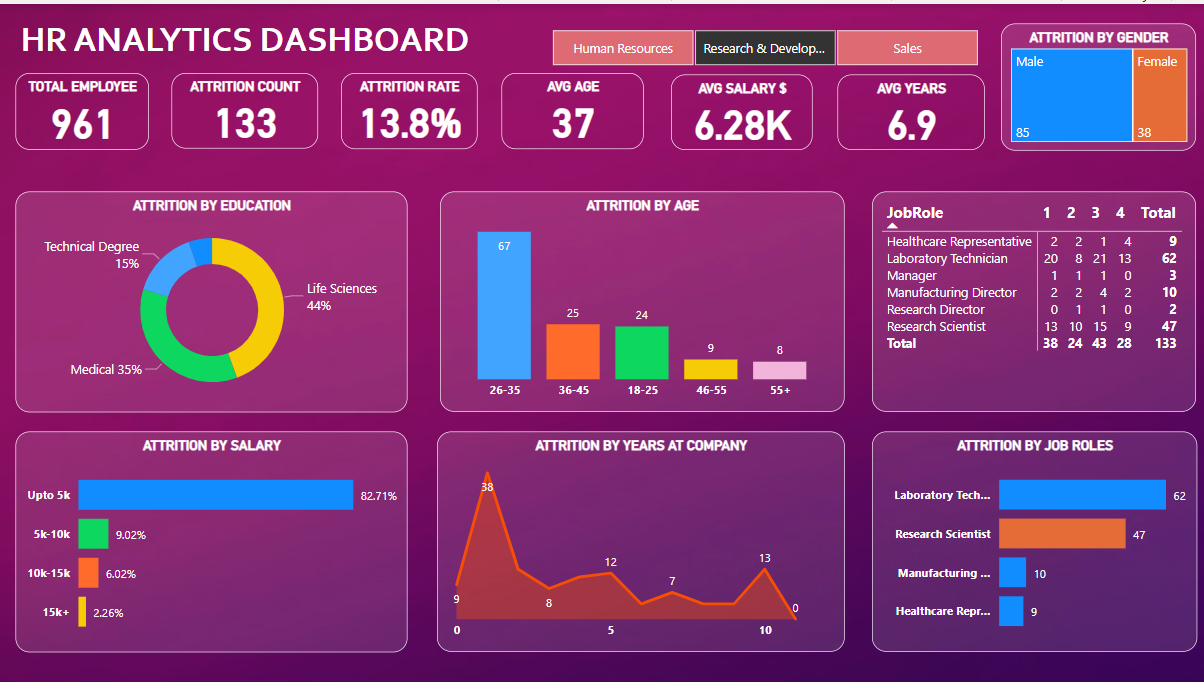

What the dashboard file says about the page in this screenshot:
{"tool":"powerbi","page":{"name":"Page 1","canvas":[1280,720],"ordinal":0},"visuals":[{"type":"card","title":"TOTAL EMPLOYEE","fields":{"Values":["CountNonNull(HR_Analytics.EmpID)"]},"box":[17.5,72.5,141.2,81.2],"z":0},{"type":"card","title":"ATTRITION COUNT","fields":{"Values":["Sum(HR_Analytics.AttritionCount)"]},"box":[182.5,73.8,155,80],"z":1000},{"type":"card","title":"ATTRITION RATE","fields":{"Values":["HR_Analytics.Measure"]},"box":[361.9,73,144.4,81],"z":2000},{"type":"card","title":"AVG AGE","fields":{"Values":["Avg(HR_Analytics.Age)"]},"box":[531.7,73,150.8,81],"z":3000},{"type":"card","title":"AVG SALARY $","fields":{"Values":["Avg(HR_Analytics.MonthlyIncome)"]},"box":[712.8,74.4,150.3,80.2],"z":4000},{"type":"card","title":"AVG YEARS ","fields":{"Values":["Avg(HR_Analytics.YearsAtCompany)"]},"box":[888.9,74.4,156,80.2],"z":5000},{"type":"donutChart","title":"ATTRITION BY EDUCATION","fields":{"Category":["HR_Analytics.EducationField"],"Y":["Sum(HR_Analytics.AttritionCount)"]},"box":[17.5,198.8,415,233.8],"z":6000},{"type":"columnChart","title":"ATTRITION BY AGE","fields":{"Category":["HR_Analytics.AgeGroup"],"Y":["Sum(HR_Analytics.AttritionCount)"]},"box":[466.7,198.4,428.6,233.3],"z":7000},{"type":"pivotTable","fields":{"Rows":["HR_Analytics.JobRole"],"Columns":["HR_Analytics.JobSatisfaction"],"Values":["Sum(HR_Analytics.AttritionCount)"]},"box":[924.7,199,343.5,233.3],"z":8000},{"type":"clusteredBarChart","title":"ATTRITION BY SALARY","fields":{"Category":["HR_Analytics.SalarySlab"],"Y":["Sum(HR_Analytics.AttritionCount)"]},"box":[17.5,452.5,415,233.8],"z":9000},{"type":"clusteredBarChart","title":"ATTRITION BY JOB ROLES","fields":{"Category":["HR_Analytics.JobRole"],"Y":["Sum(HR_Analytics.AttritionCount)"]},"box":[925.4,452.4,344.4,233.3],"z":10000},{"type":"areaChart","title":"ATTRITION BY YEARS AT COMPANY","fields":{"Category":["HR_Analytics.YearsAtCompany"],"Y":["Sum(HR_Analytics.AttritionCount)"]},"box":[463.5,452.4,431.7,233.3],"z":11000},{"type":"treemap","title":"ATTRITION BY GENDER","fields":{"Group":["HR_Analytics.Gender"],"Values":["Sum(HR_Analytics.AttritionCount)"]},"box":[1061.9,20.6,206.3,134.9],"z":12000},{"type":"slicer","title":"DEPARTMENTS","fields":{"Values":["HR_Analytics.Department"]},"box":[561.2,21.2,500,51.2],"z":13000},{"type":"textbox","box":[0,10,521.2,57.5],"z":14000}]}

Visuals, with their boxes in screenshot pixels (x1, y1, x2, y2), scaled from the page's 1280x720 canvas onto the 1204x682 screenshot:
"TOTAL EMPLOYEE" card: (16, 69, 149, 146)
"ATTRITION COUNT" card: (172, 70, 317, 146)
"ATTRITION RATE" card: (340, 69, 476, 146)
"AVG AGE" card: (500, 69, 642, 146)
"AVG SALARY $" card: (670, 70, 812, 146)
"AVG YEARS " card: (836, 70, 983, 146)
"ATTRITION BY EDUCATION" donutChart: (16, 188, 407, 410)
"ATTRITION BY AGE" columnChart: (439, 188, 842, 409)
pivotTable - HR_Analytics.JobRole x HR_Analytics.JobSatisfaction: (870, 188, 1193, 409)
"ATTRITION BY SALARY" clusteredBarChart: (16, 429, 407, 650)
"ATTRITION BY JOB ROLES" clusteredBarChart: (870, 429, 1194, 650)
"ATTRITION BY YEARS AT COMPANY" areaChart: (436, 429, 842, 650)
"ATTRITION BY GENDER" treemap: (999, 20, 1193, 147)
"DEPARTMENTS" slicer: (528, 20, 998, 69)
textbox: (0, 9, 490, 64)
